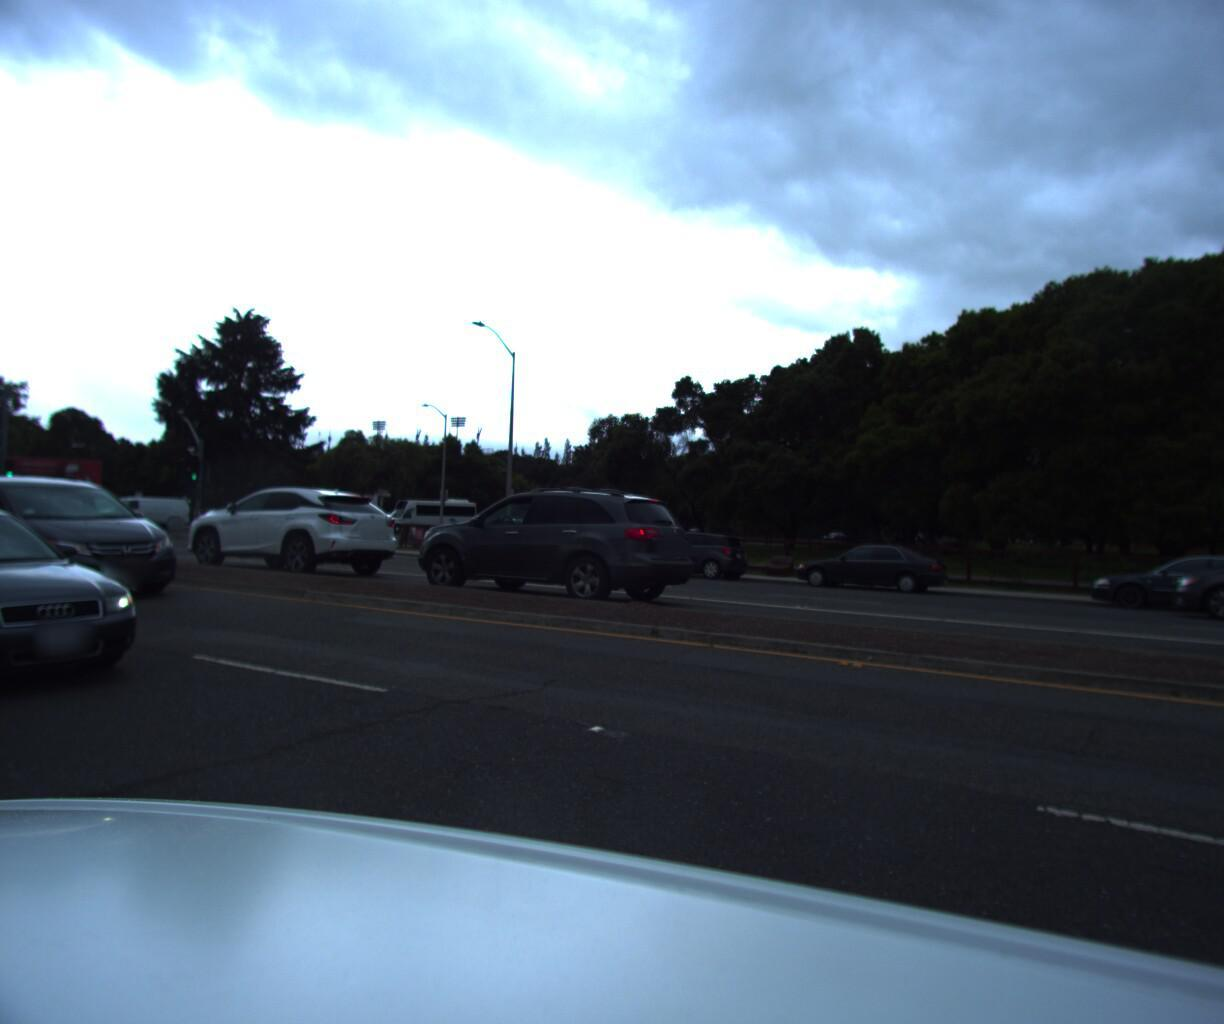car: (0, 492, 186, 732), (388, 482, 711, 615), (0, 467, 202, 613), (165, 483, 409, 584), (1078, 548, 1224, 627), (785, 539, 955, 600), (617, 528, 757, 584), (1175, 532, 1224, 638), (90, 495, 196, 533), (1223, 522, 1224, 738)
other_vehicle: (371, 494, 480, 538)
